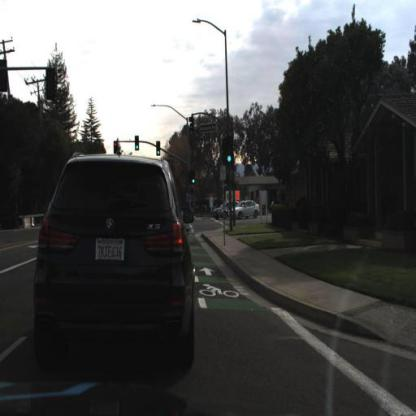car: (29, 145, 200, 377), (228, 198, 260, 221)
trafficLight: (110, 136, 120, 159)
trafficLight-Green: (221, 135, 236, 171), (156, 140, 161, 156), (134, 134, 139, 148), (191, 172, 196, 186)
